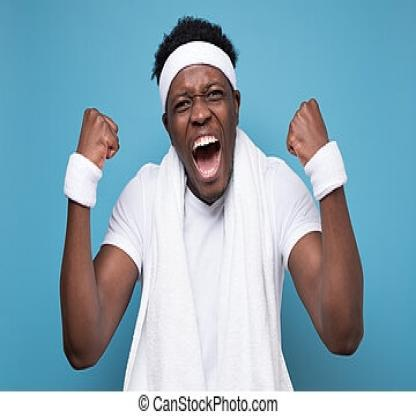fist: (58, 87, 136, 179), (273, 89, 352, 176)
